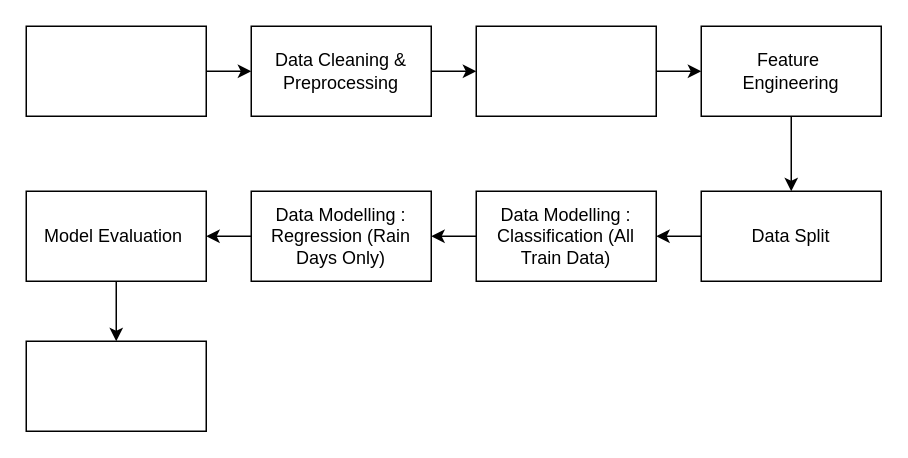
Some shapes in this 908 by 458 pixel diagram are drawn without their labels. Each missing label, with the box of its shape:
Data Input: (25, 25, 206, 116)
EDA: (475, 25, 656, 116)
Visualization: (25, 340, 206, 431)
